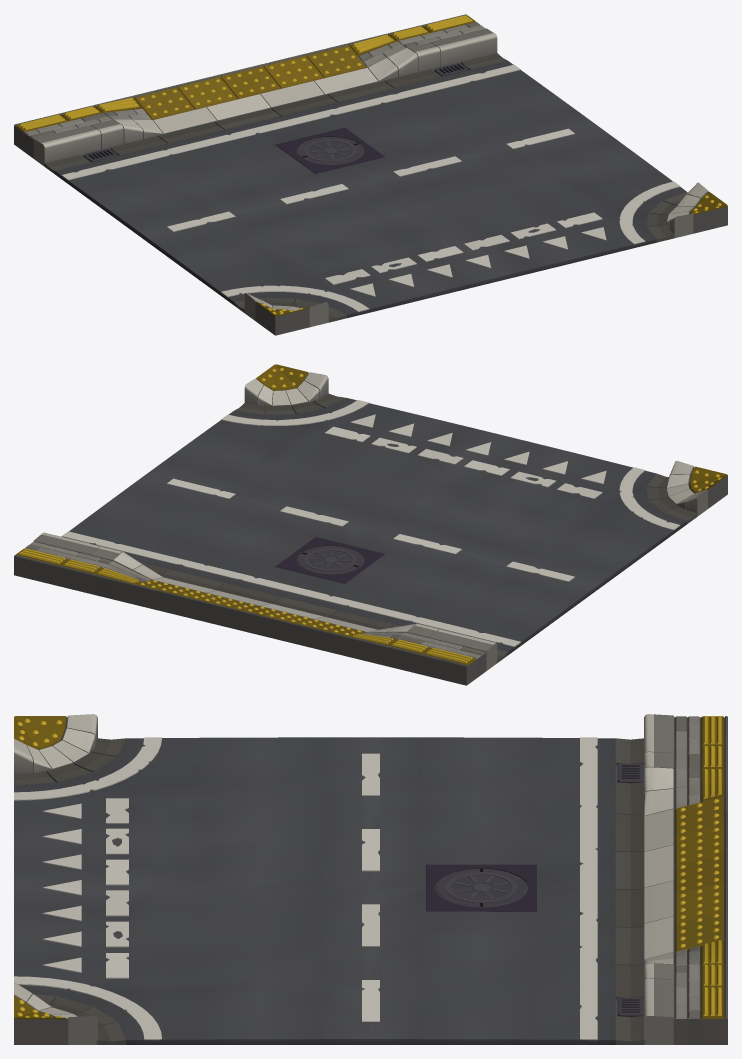
Rendered from road-t-junction.glb.
3 views of the same model, one above another, from view 1: azimuth 30°, elevation 25°; view 2: azimuth 150°, elevation 25°; view 3: azimuth 270°, elevation 25° (orthographic). The views are drawn at different scales.
Parts seen in each view (by area): view 1: road_t_junction_01; view 2: road_t_junction_01; view 3: road_t_junction_01.
Boxes of the visible parts, <box> form: road_t_junction_01: <box>14,14,727,335</box>; road_t_junction_01: <box>14,364,727,685</box>; road_t_junction_01: <box>14,714,727,1044</box>.
Size of the model in its own units: 4 by 0.1819 by 4.
